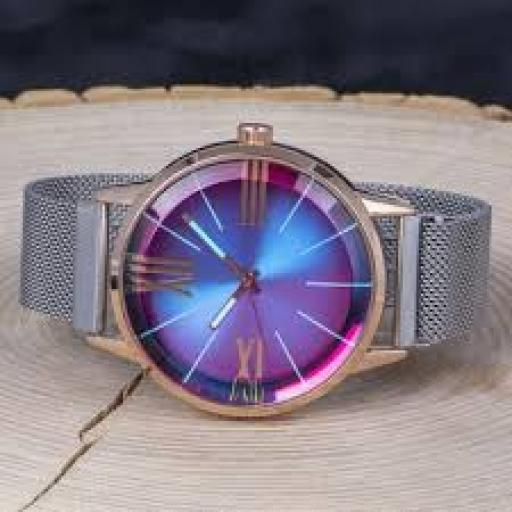KolSaati: (9, 122, 500, 429)
